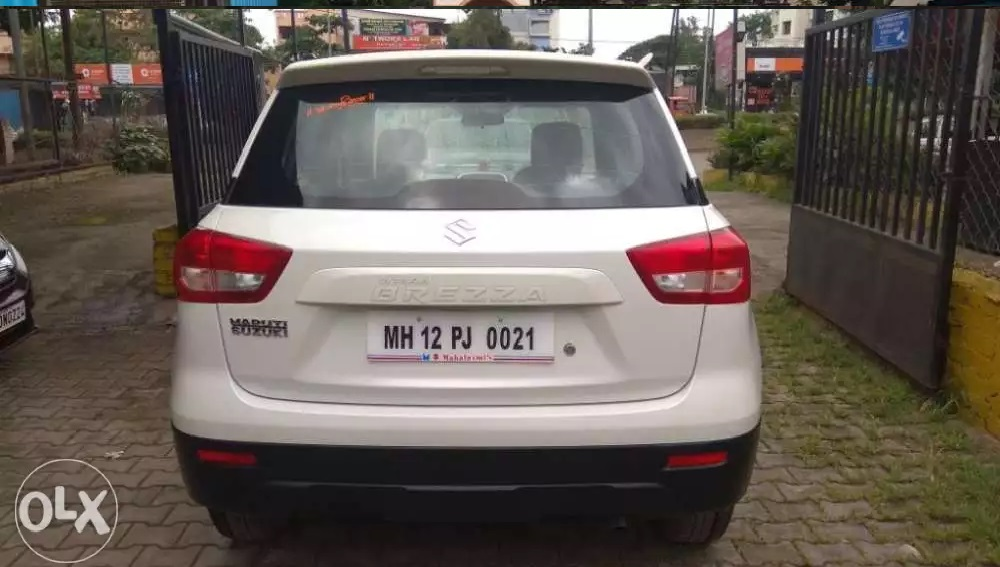licenseplate: (364, 303, 556, 366)
